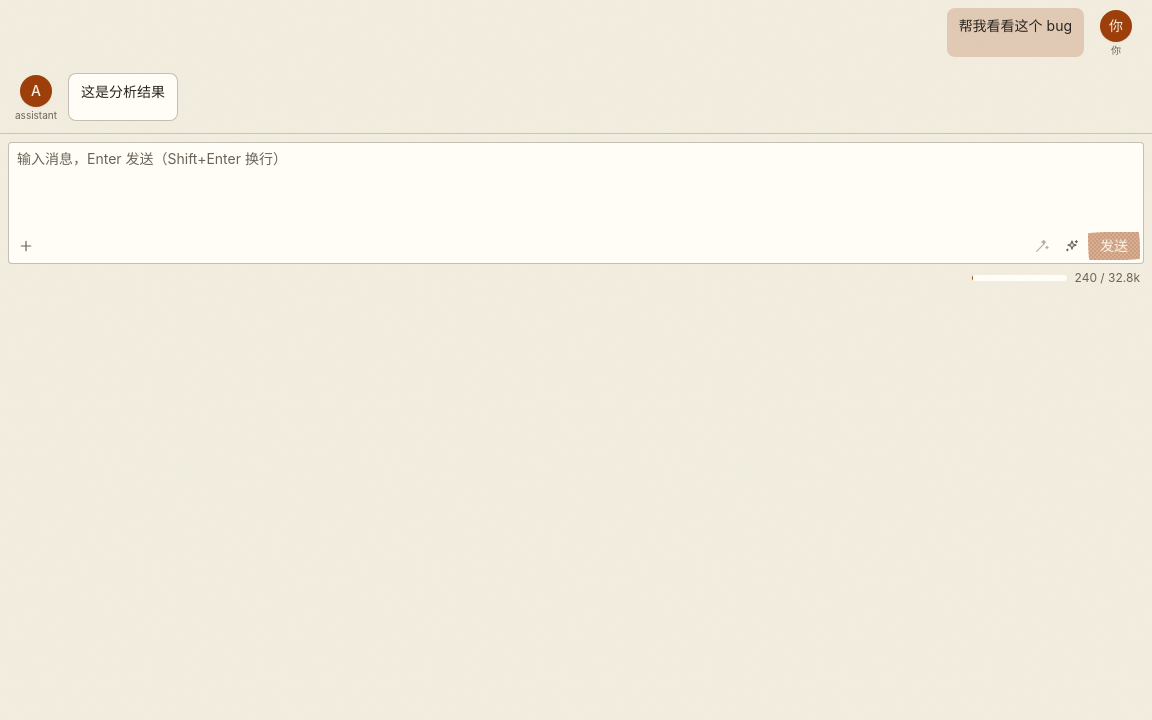
ChatView — WeChat-style bubble toolbar (气泡工具栏) › closes the toolbar on a click outside any message row
Expected: the text "帮我看看这个 bug" is shown, [959,16,1072,36]
Expected: the text "这是分析结果" is shown, [81,82,165,102]
Click the text "这是分析结果": [123, 97] box [68,72,178,121]
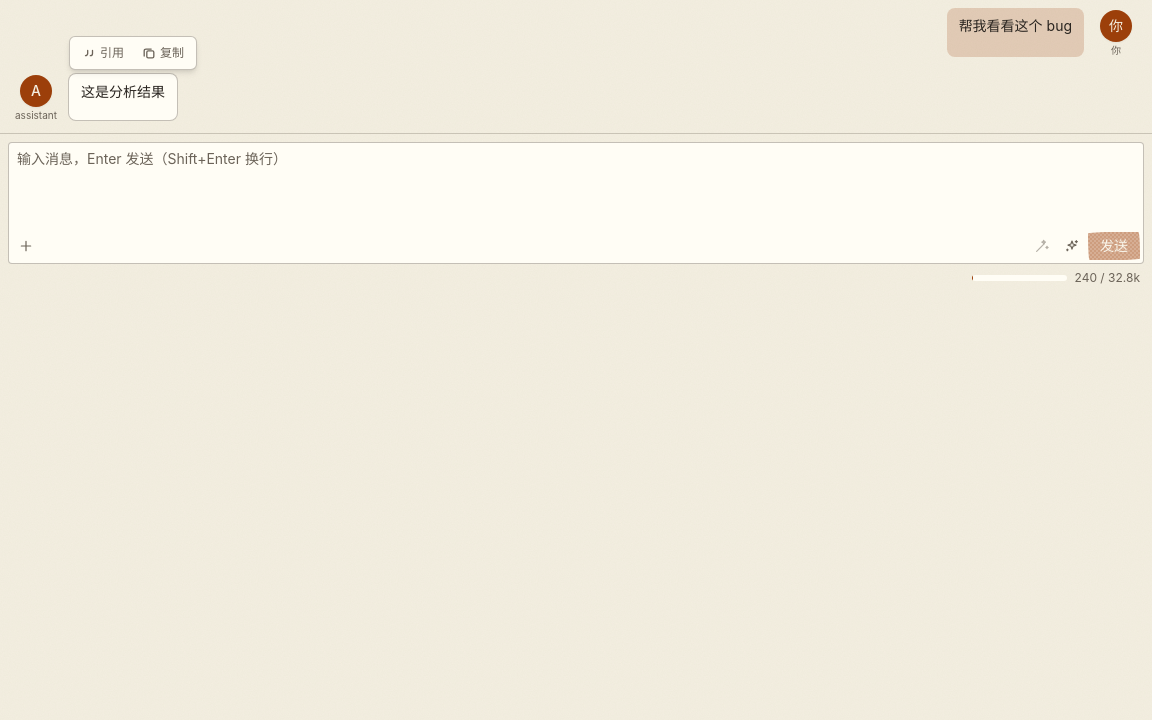
Result: the element with test id "bubble-toolbar" is shown at [69,36,197,70]
Press the mouse on the element showing "你 你 帮我看看这个 bug A assistant 引用 复制 这是分析结果 发送 240 / 32.8k": [576, 360] box [0,0,1151,719]
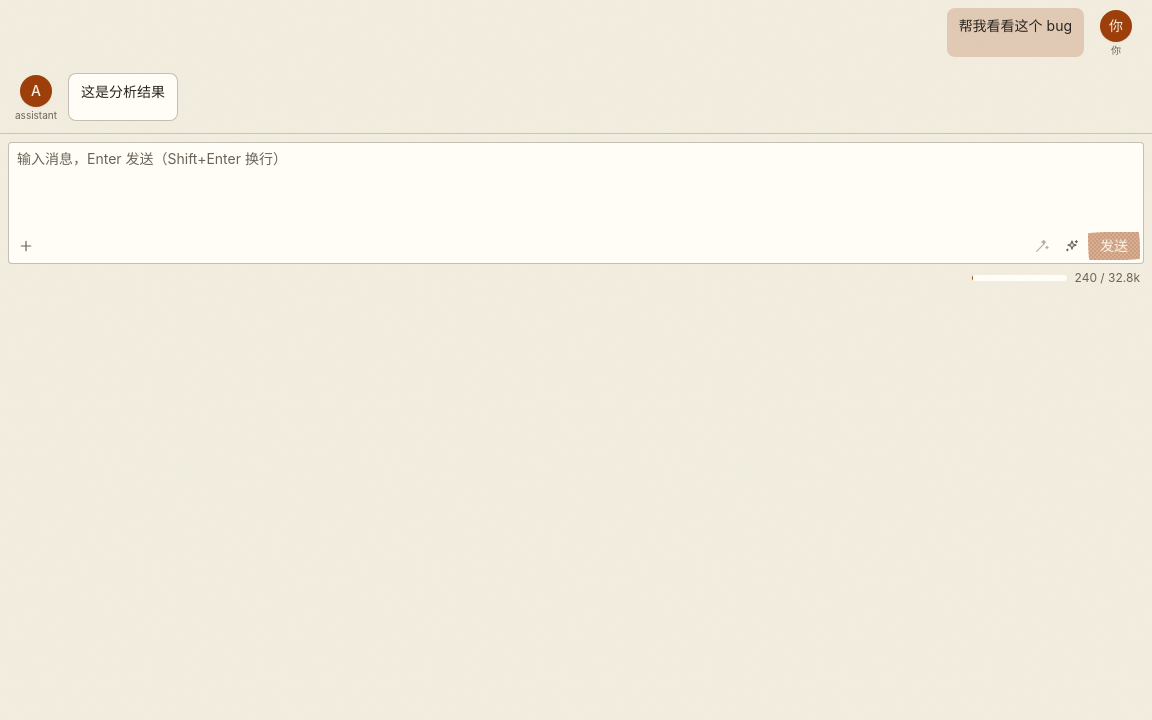
Result: the element with test id "bubble-toolbar" is gone
